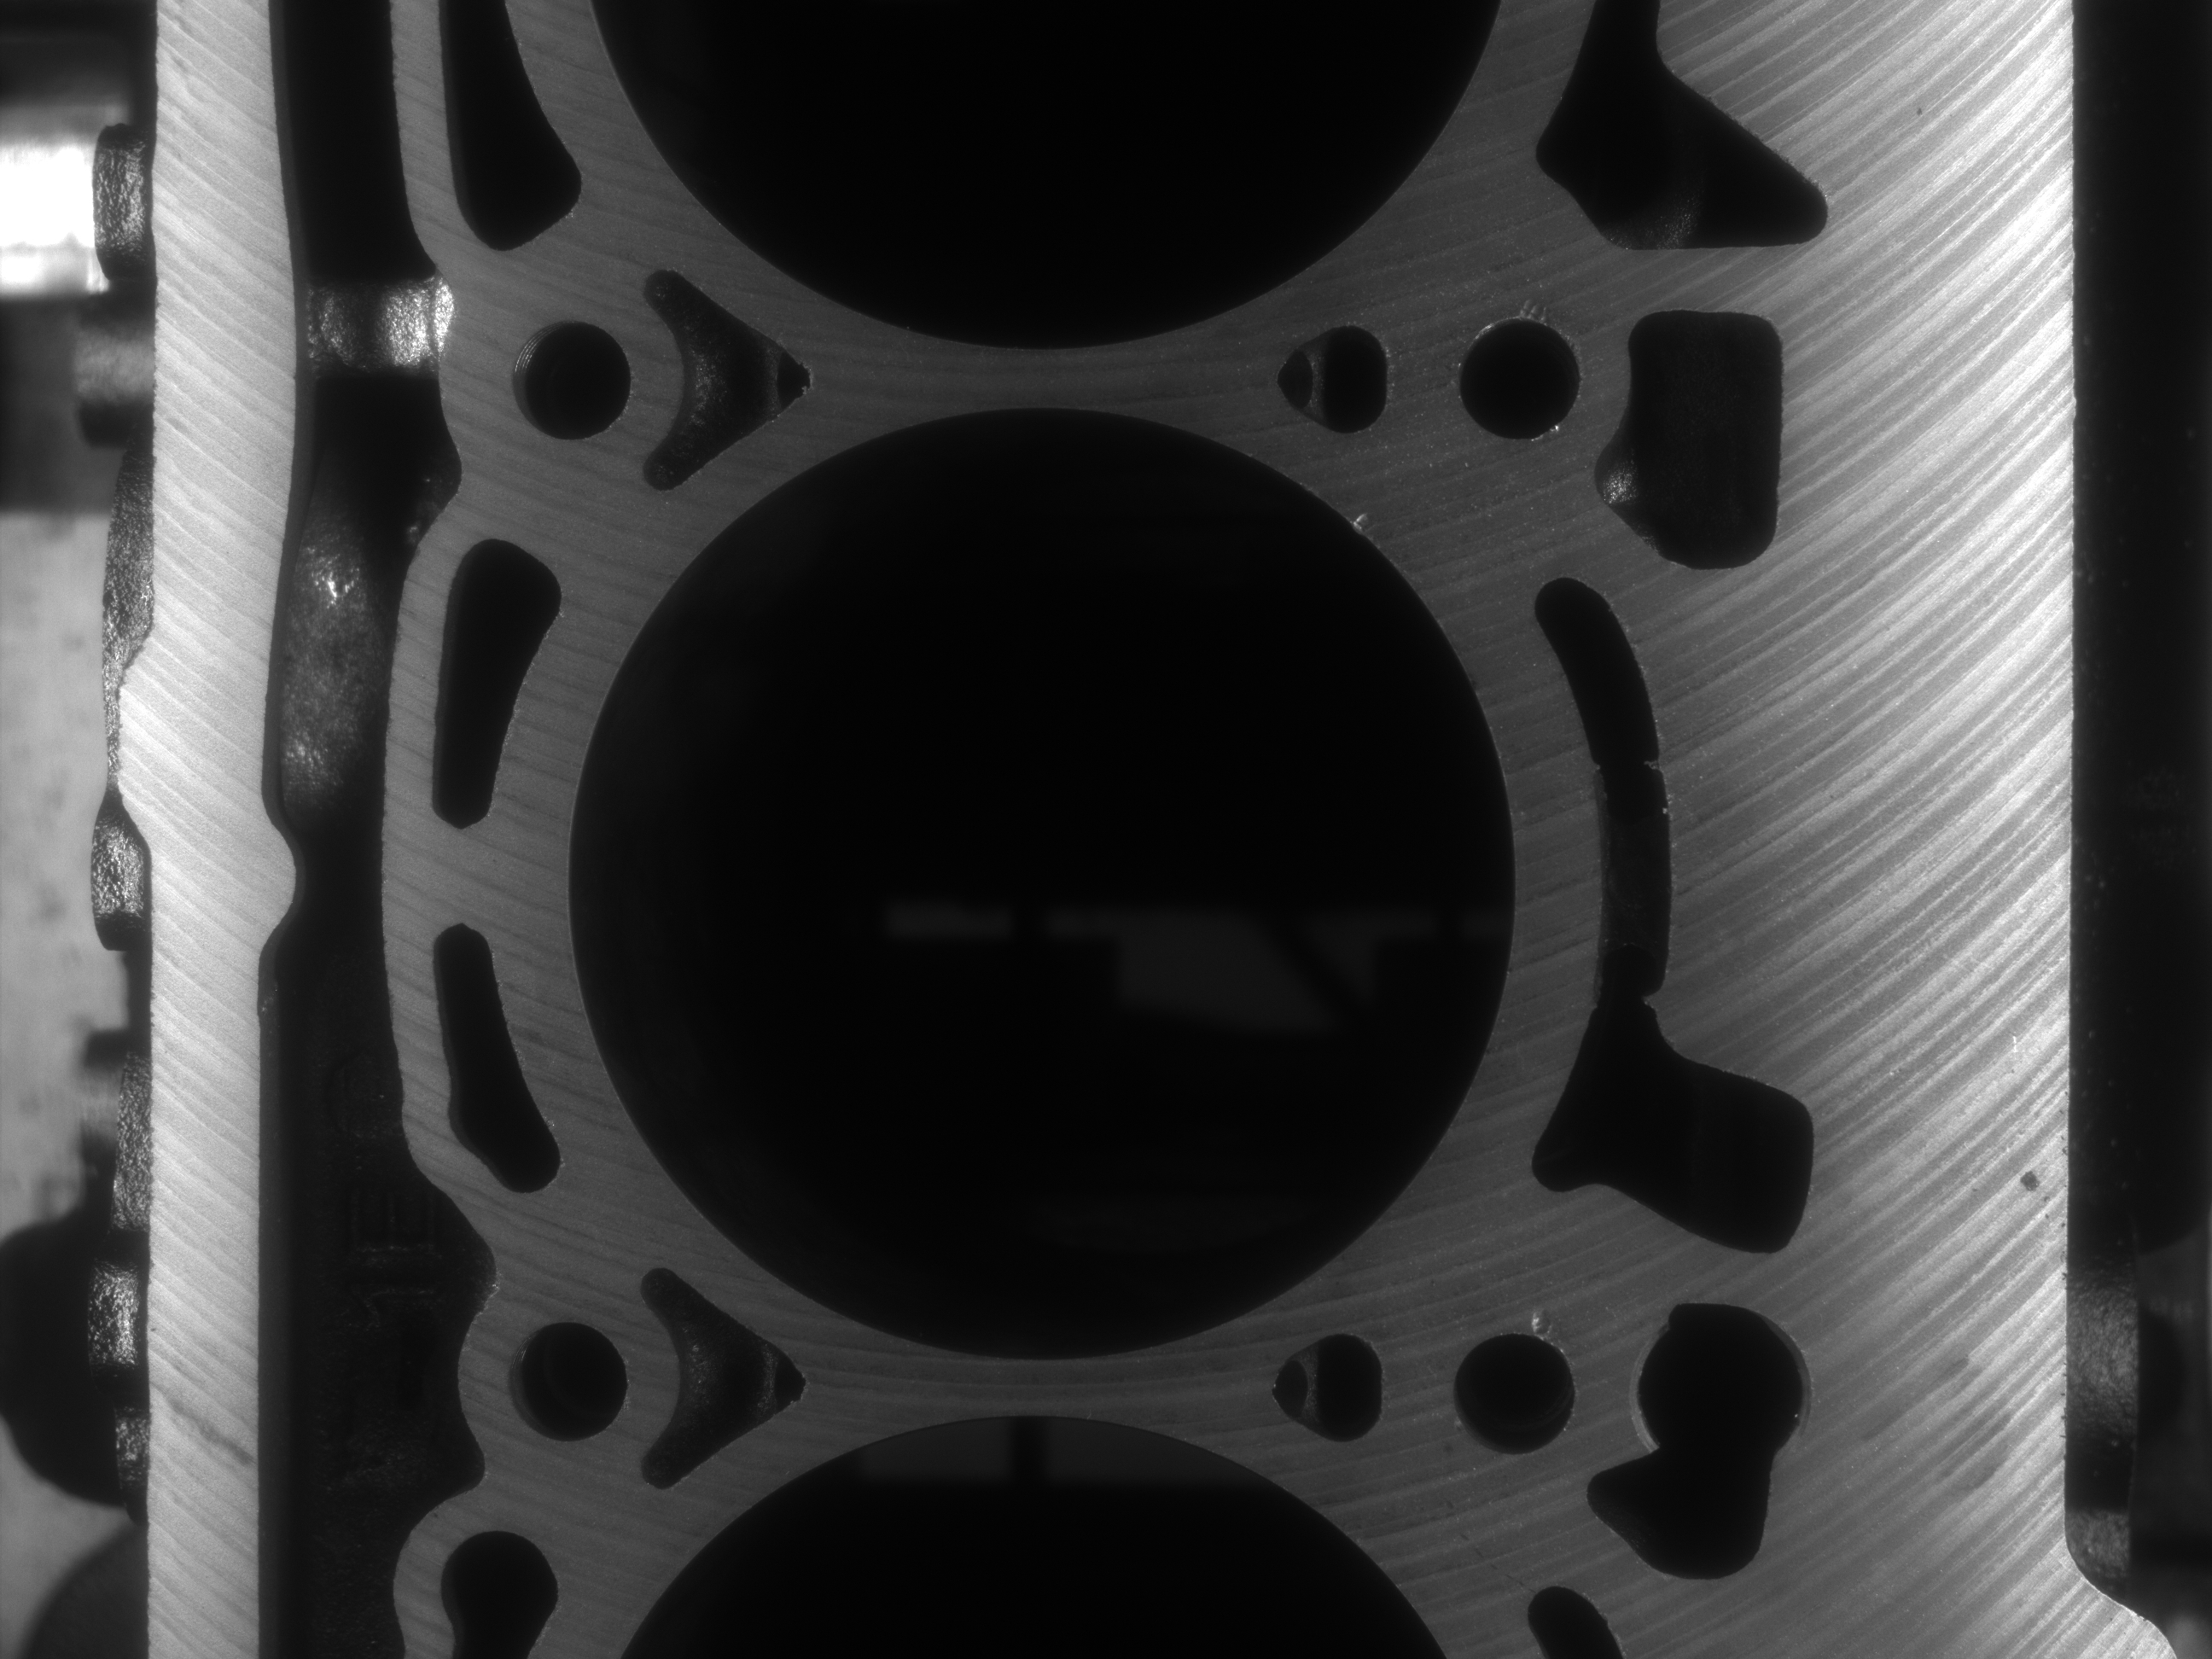shrinkage: (1517, 1293, 1569, 1347), (1346, 497, 1388, 538), (1514, 288, 1559, 324)
